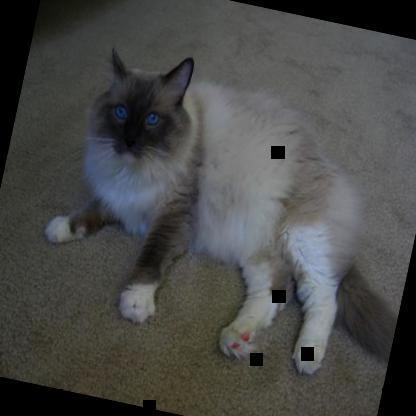cat: (25, 34, 415, 394)
